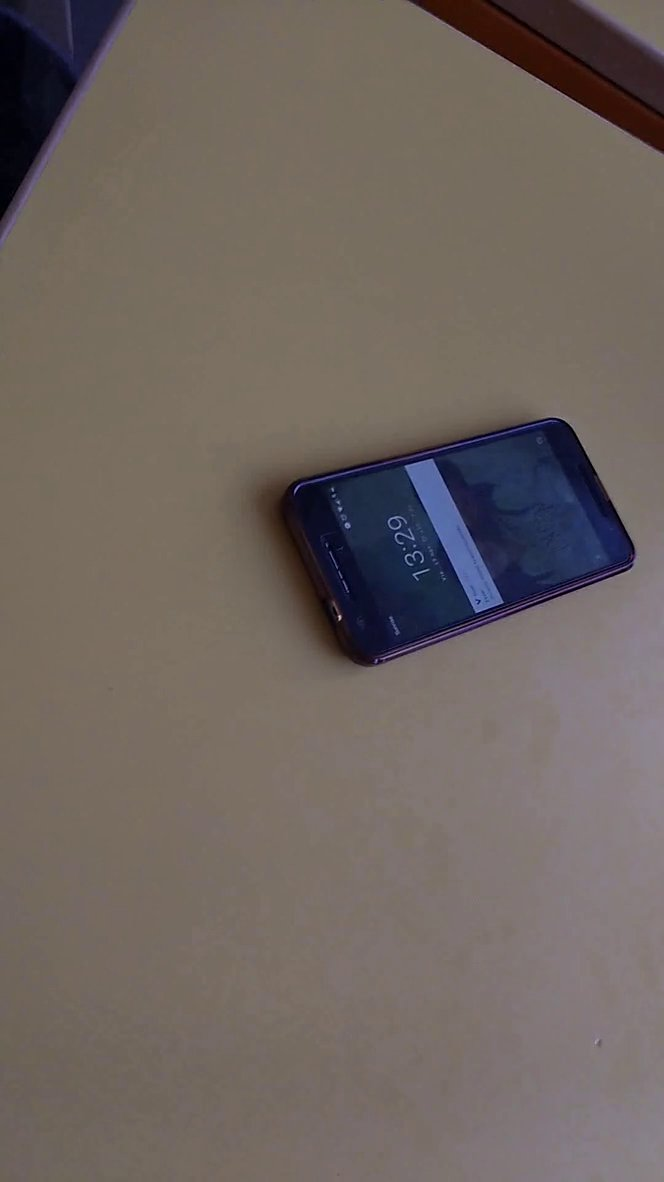phone: (274, 396, 647, 680)
